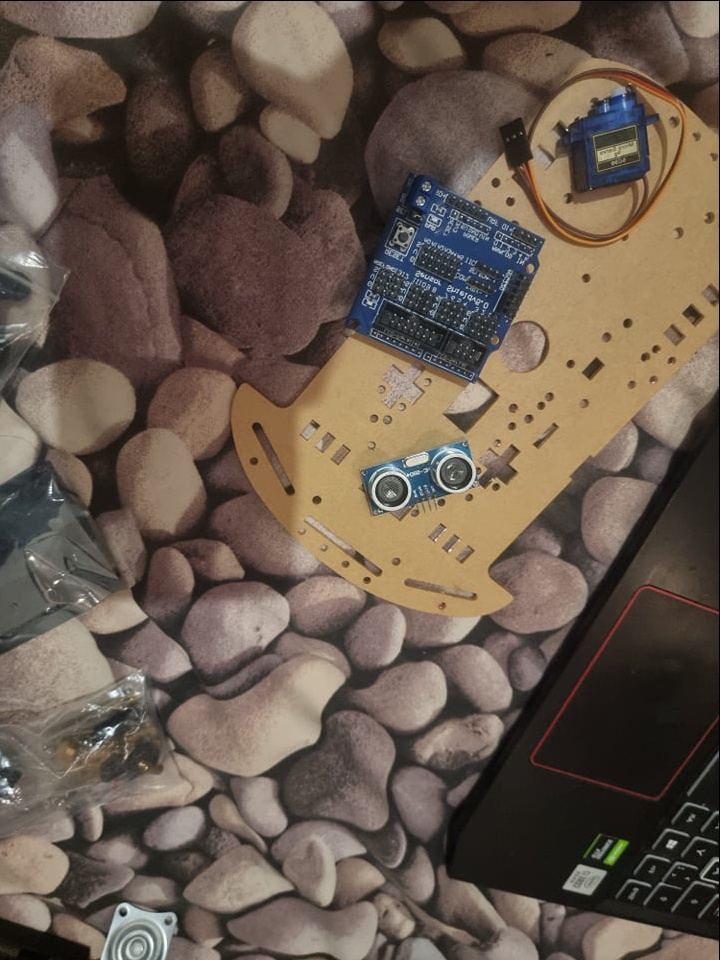5V EXPANSION: (343, 174, 547, 382)
SENSOR: (363, 435, 479, 516)
